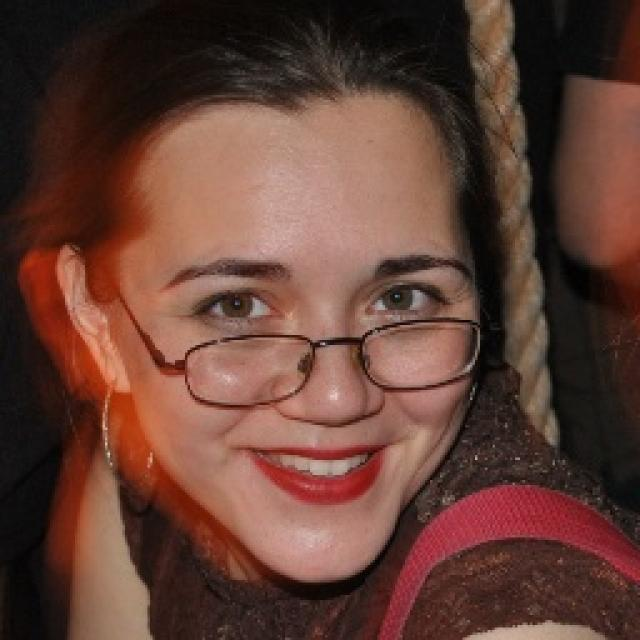earlobe: (97, 341, 132, 396)
eye: (196, 288, 282, 327), (366, 281, 442, 319)
nose: (272, 398, 393, 464)
wholeear: (53, 241, 132, 396)
